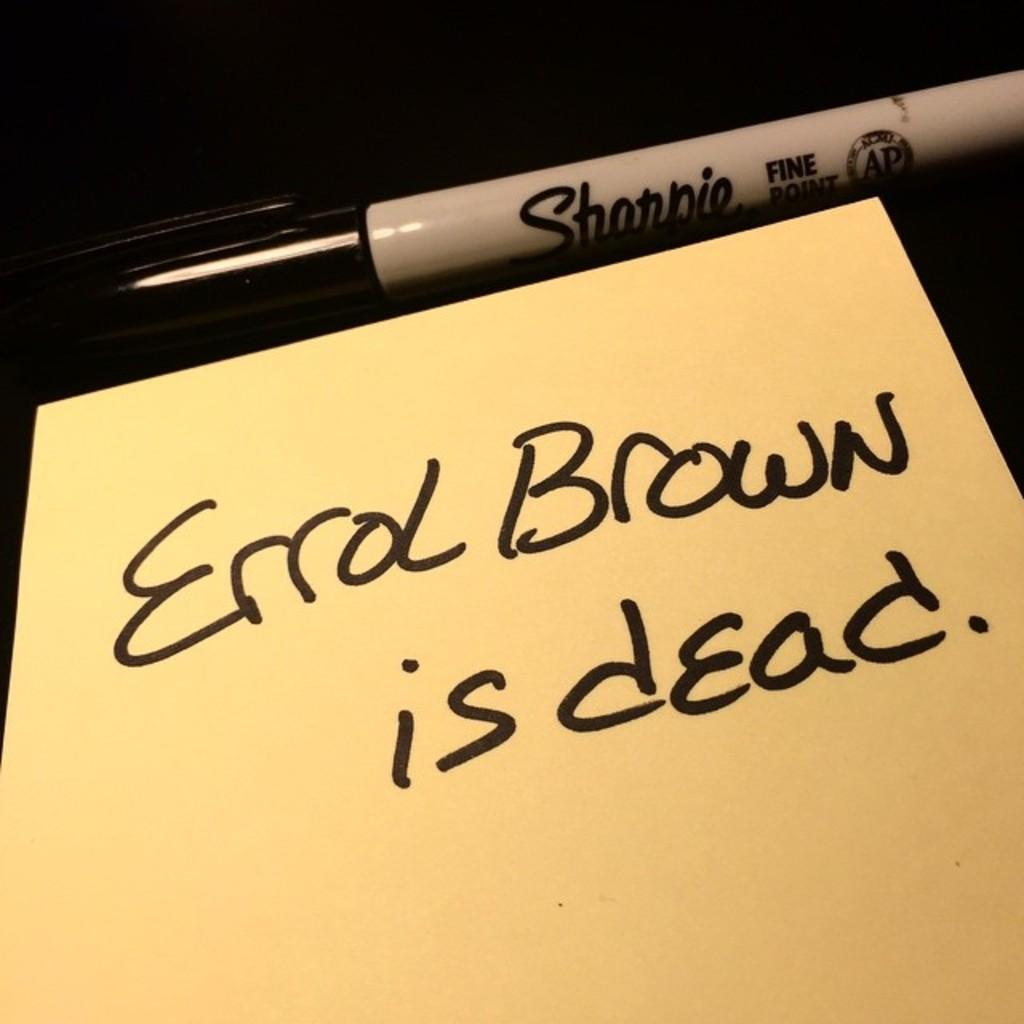pen: (66, 67, 1022, 326)
